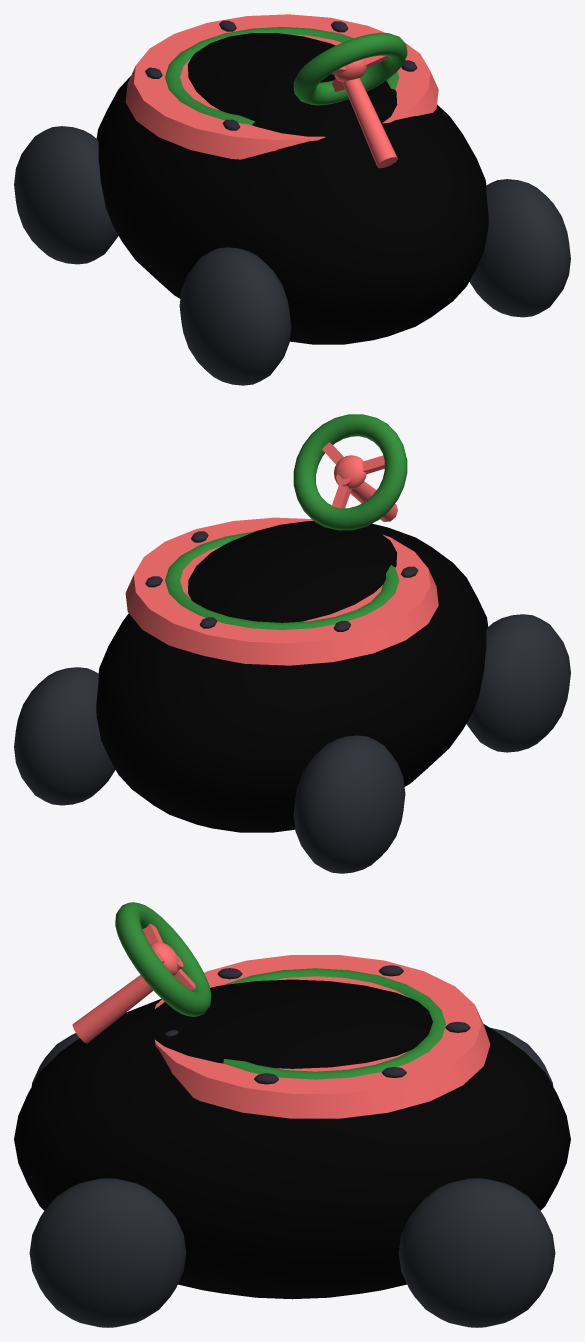
Rendered from kart-melon.glb.
3 renders of one model, top to bottom at view 1: azimuth 30°, elevation 25°; view 2: azimuth 150°, elevation 25°; view 3: azimuth 270°, elevation 25°, orthographic. The views are drawn at different scales.
Parts seen in each view (by area): view 1: kart-melon; view 2: kart-melon; view 3: kart-melon.
Boxes of the visible parts, bbox=[...] form: kart-melon: bbox=[14, 14, 570, 385]; kart-melon: bbox=[14, 414, 570, 873]; kart-melon: bbox=[14, 902, 570, 1327].
Bounding box in the file's own units: 2.05 × 1.75 × 2.41.
9 materials, 1 textured.
